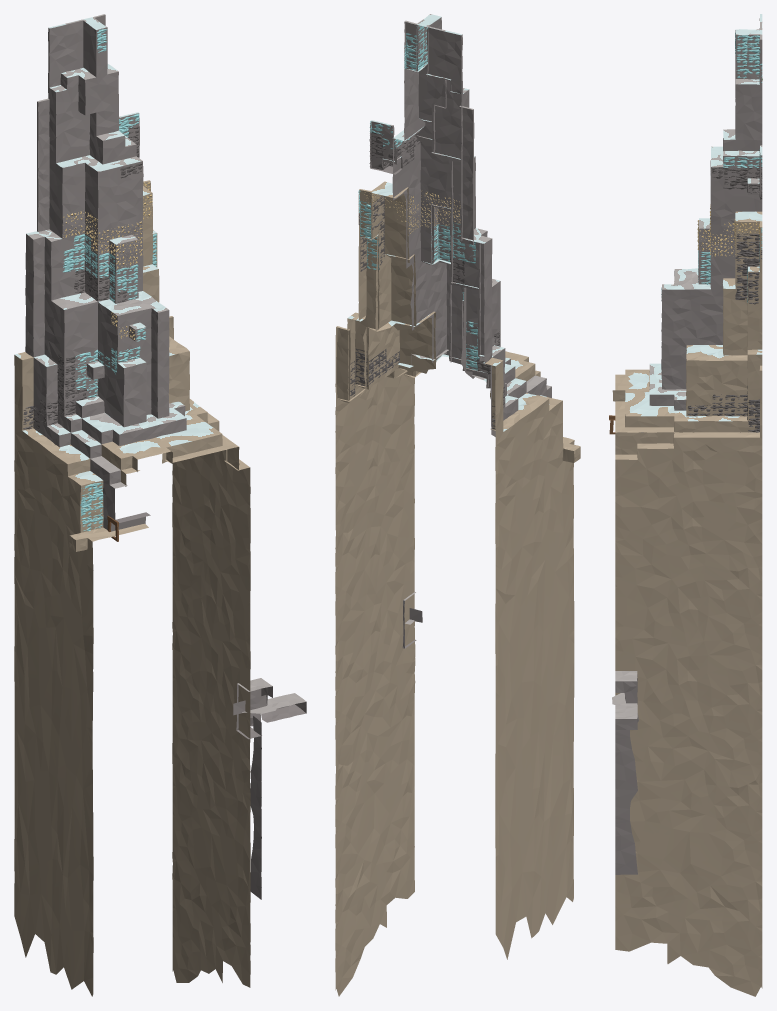
3 renders of one model, left to right at view 1: azimuth 30°, elevation 25°; view 2: azimuth 150°, elevation 25°; view 3: azimuth 270°, elevation 25°, orthographic. The views are drawn at different scales.
Visible parts, largest first — view 1: 12; view 2: 12; view 3: 12.
Boxes of the visible parts, x1,y1,x2,y2 form: 12: (14,14,306,996); 12: (335,14,580,996); 12: (609,14,762,996).
Bounding box in the file's own units: 20.04 × 83.35 × 12.56.
1 material, 1 textured.
